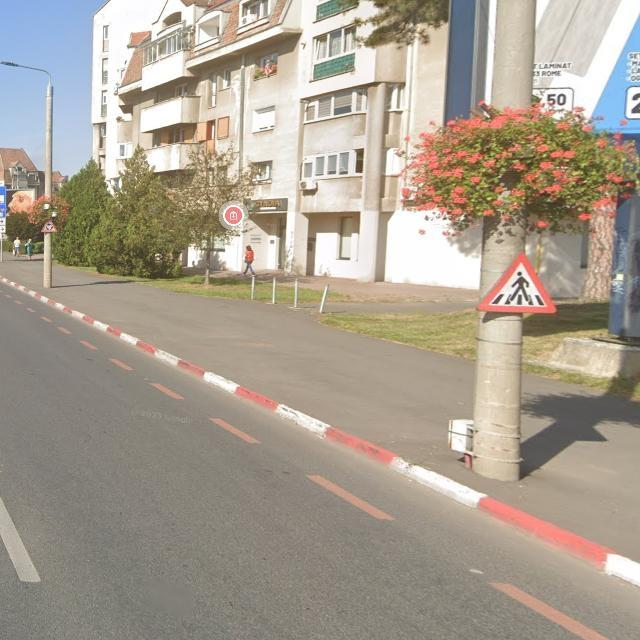warn_crosswalk: (476, 255, 557, 314)
